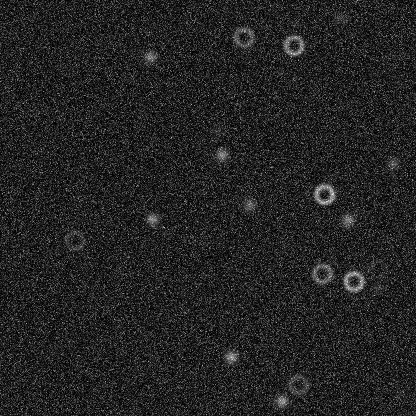Ring: (312, 182, 336, 206), (231, 25, 255, 49), (281, 33, 305, 57), (310, 261, 334, 285), (341, 269, 365, 293), (62, 228, 86, 252), (286, 372, 310, 396), (365, 257, 389, 281)
Spot: (241, 196, 257, 212), (332, 10, 348, 26), (144, 211, 160, 227), (208, 122, 224, 138), (368, 280, 384, 296), (273, 392, 289, 408), (339, 211, 355, 227), (223, 348, 239, 364), (142, 49, 158, 65), (385, 155, 401, 171), (213, 146, 229, 162), (392, 385, 408, 401)
